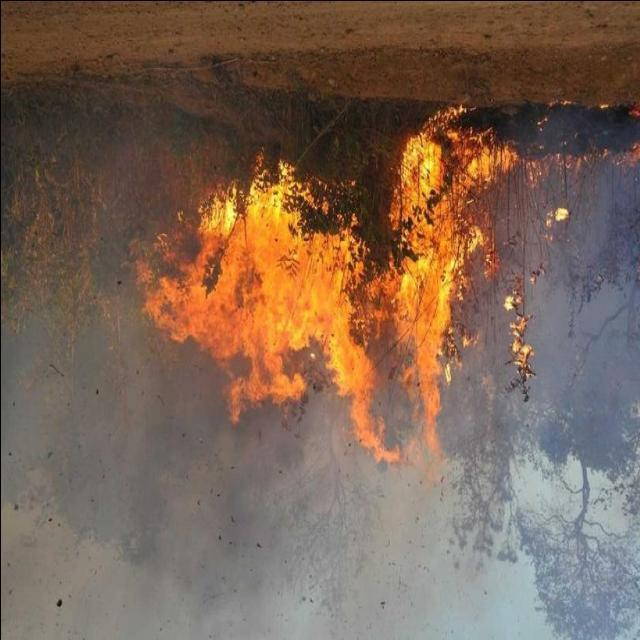Fire: (147, 142, 500, 466)
